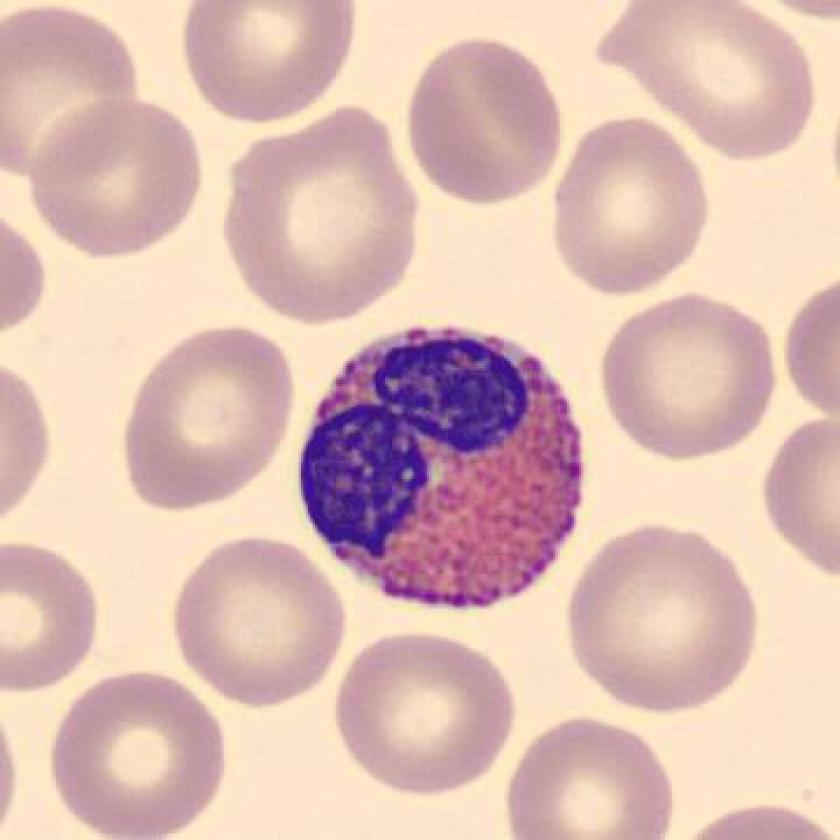eosinophil: (290, 311, 601, 621)
